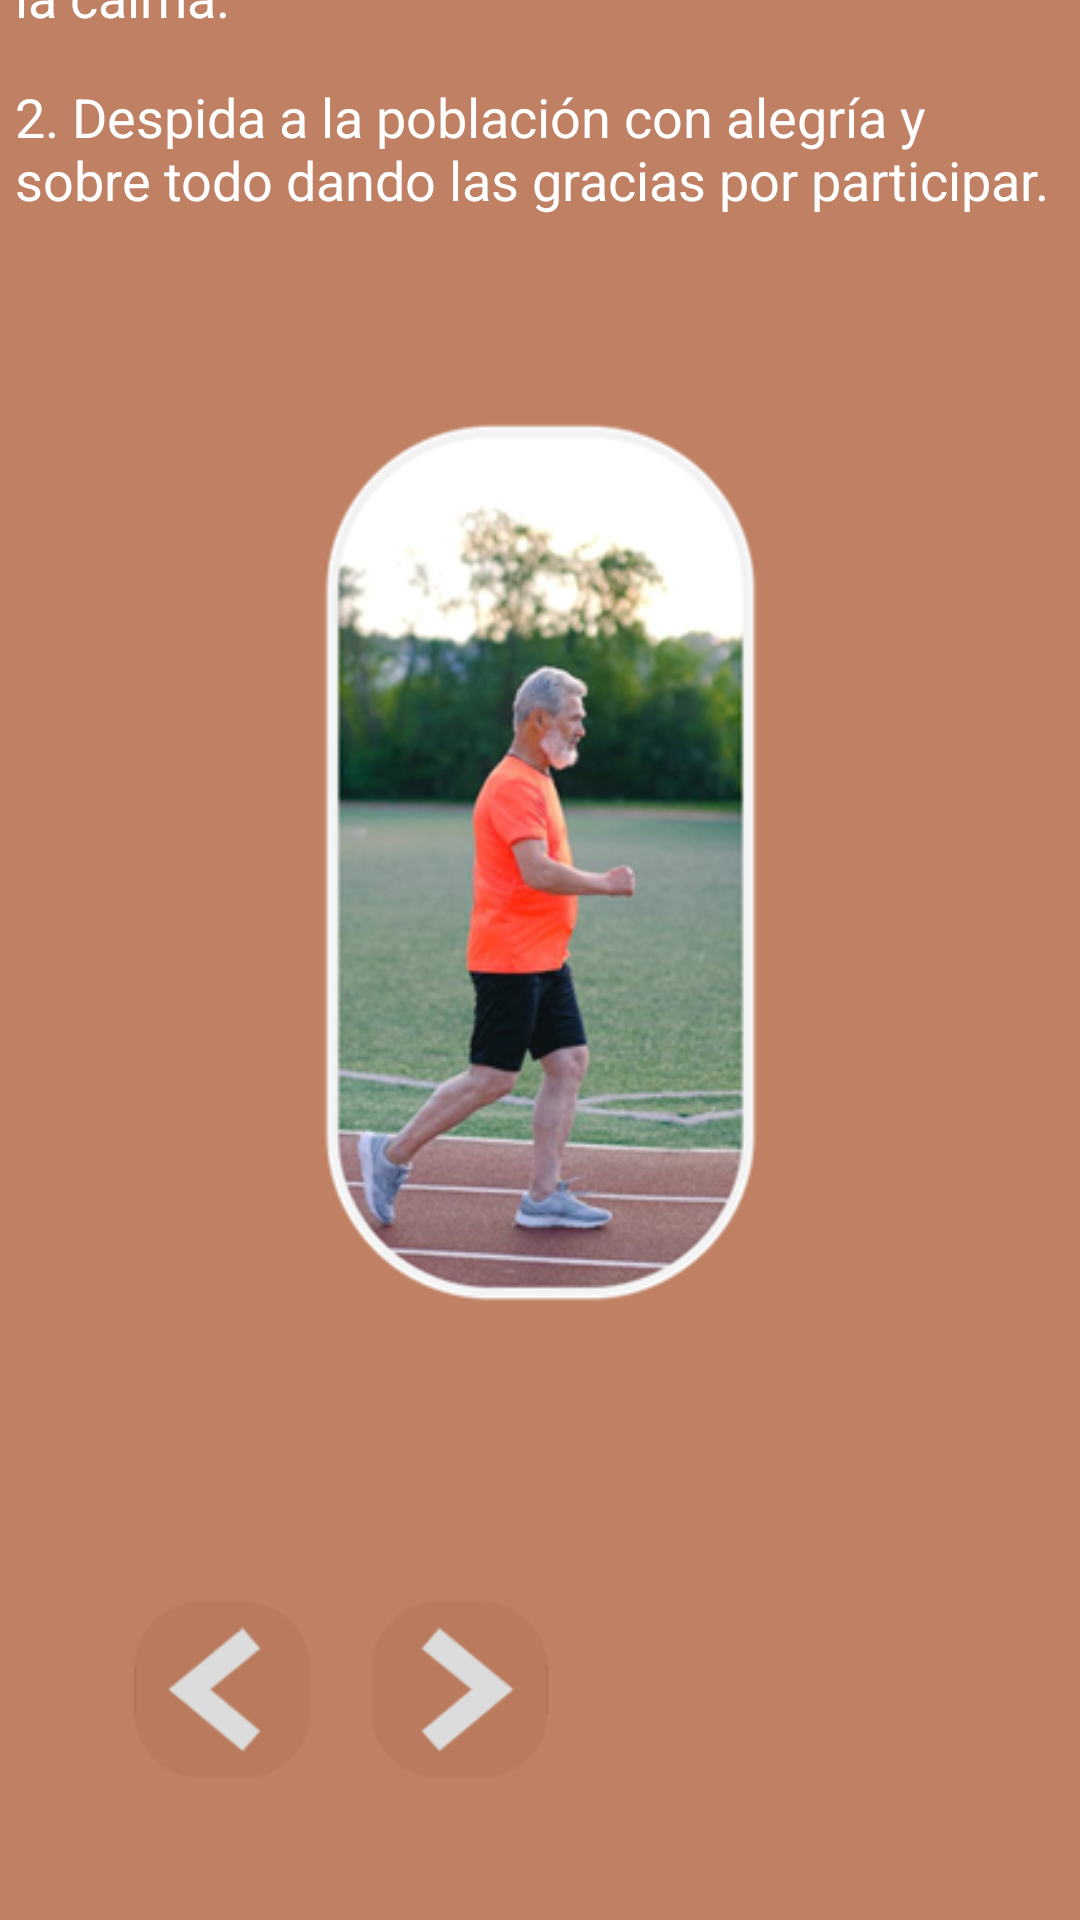

Icons on this 1080*1920 Android screen, each with its box as (x1, y1, x2, y2):
regresar: (169, 1628, 260, 1751)
seguir: (422, 1628, 513, 1751)
